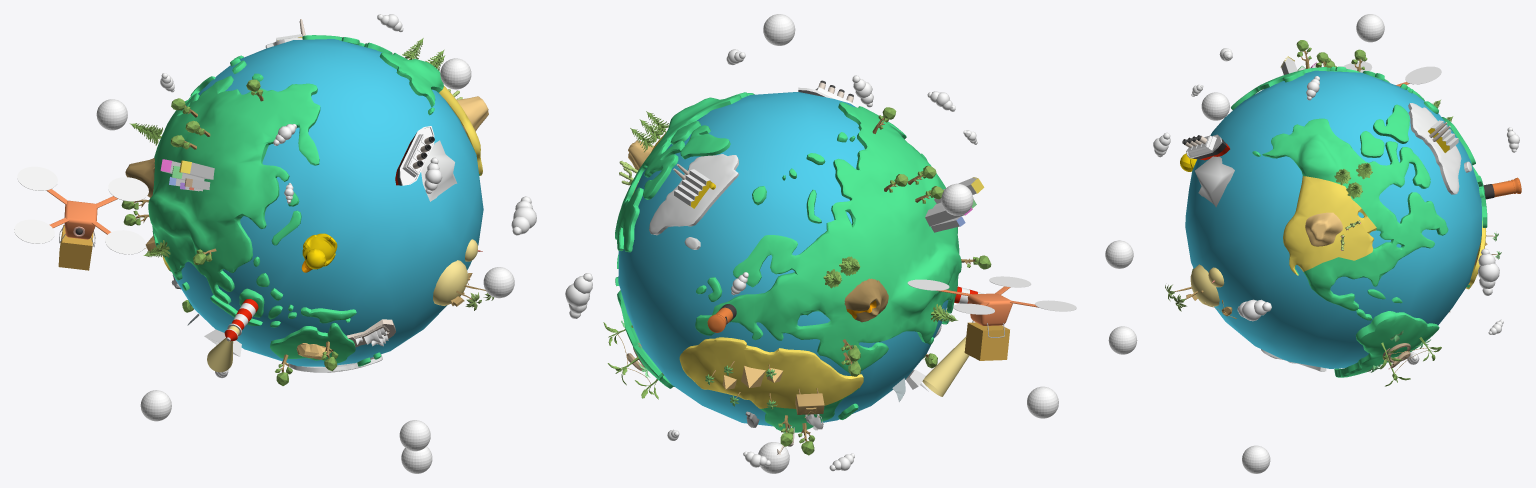
File: globe-comp.glb
3 renders of one model, left to right at view 1: azimuth 30°, elevation 25°; view 2: azimuth 150°, elevation 25°; view 3: azimuth 270°, elevation 25°, orthographic. The views are drawn at different scales.
Parts seen in each view (by area): view 1: OCEAN, GREEN, Cube, B ISLAND, BOX, RUBBER DUCKY, SHIP TOP, ICEBERG, YELLOW, BLADE 3, BLADE 0, BLADE 1 (+13 smaller); view 2: OCEAN, GREEN, YELLOW, WHITE.001, BOX, Cube, VOLCANO.001, lighthouse-cone, CLOUD 1 42, point-of-interest-4, point-of-interest-1, point-of-interest-2 (+4 smaller); view 3: OCEAN, GREEN, YELLOW, WHITE.001, ICEBERG, M. VALLEY, B ISLAND, CLOUD 1 42, point-of-interest-3, point-of-interest-2, point-of-interest-6, point-of-interest-1 (+4 smaller).
Boxes of the visible parts, x1,y1,x2,y2 form: OCEAN: (173,39,483,366); GREEN: (148,35,480,366); Cube: (46,189,117,239); B ISLAND: (433,260,468,305); BOX: (58,225,93,270); RUBBER DUCKY: (302,233,337,269); SHIP TOP: (399,126,434,185); ICEBERG: (421,140,457,201); YELLOW: (162,86,482,270); BLADE 3: (105,230,145,254); BLADE 0: (14,219,54,243); BLADE 1: (17,166,57,190); OCEAN: (618,92,948,426); GREEN: (615,92,961,432); YELLOW: (633,133,863,408); WHITE.001: (649,154,738,249); BOX: (964,322,1009,360); Cube: (936,286,1038,325); VOLCANO.001: (844,278,888,322); lighthouse-cone: (922,336,969,396); CLOUD 1 42: (565,273,592,318); point-of-interest-4: (1027,386,1058,418); point-of-interest-1: (763,14,795,45); point-of-interest-2: (941,183,973,215); OCEAN: (1185,70,1481,368); GREEN: (1231,66,1487,377); YELLOW: (1283,176,1486,289); WHITE.001: (1261,103,1472,371); ICEBERG: (1195,156,1234,207); M. VALLEY: (1305,212,1342,246); B ISLAND: (1190,264,1219,306); CLOUD 1 42: (1478,248,1499,295); point-of-interest-3: (1105,240,1133,268); point-of-interest-2: (1356,14,1384,42); point-of-interest-6: (1242,445,1270,473); point-of-interest-1: (1201,92,1229,120).
Bounding box in the file's own units: 126 × 112 × 107.
